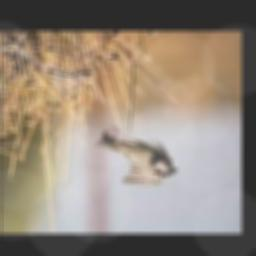Sparrow: (95, 125, 178, 187)
